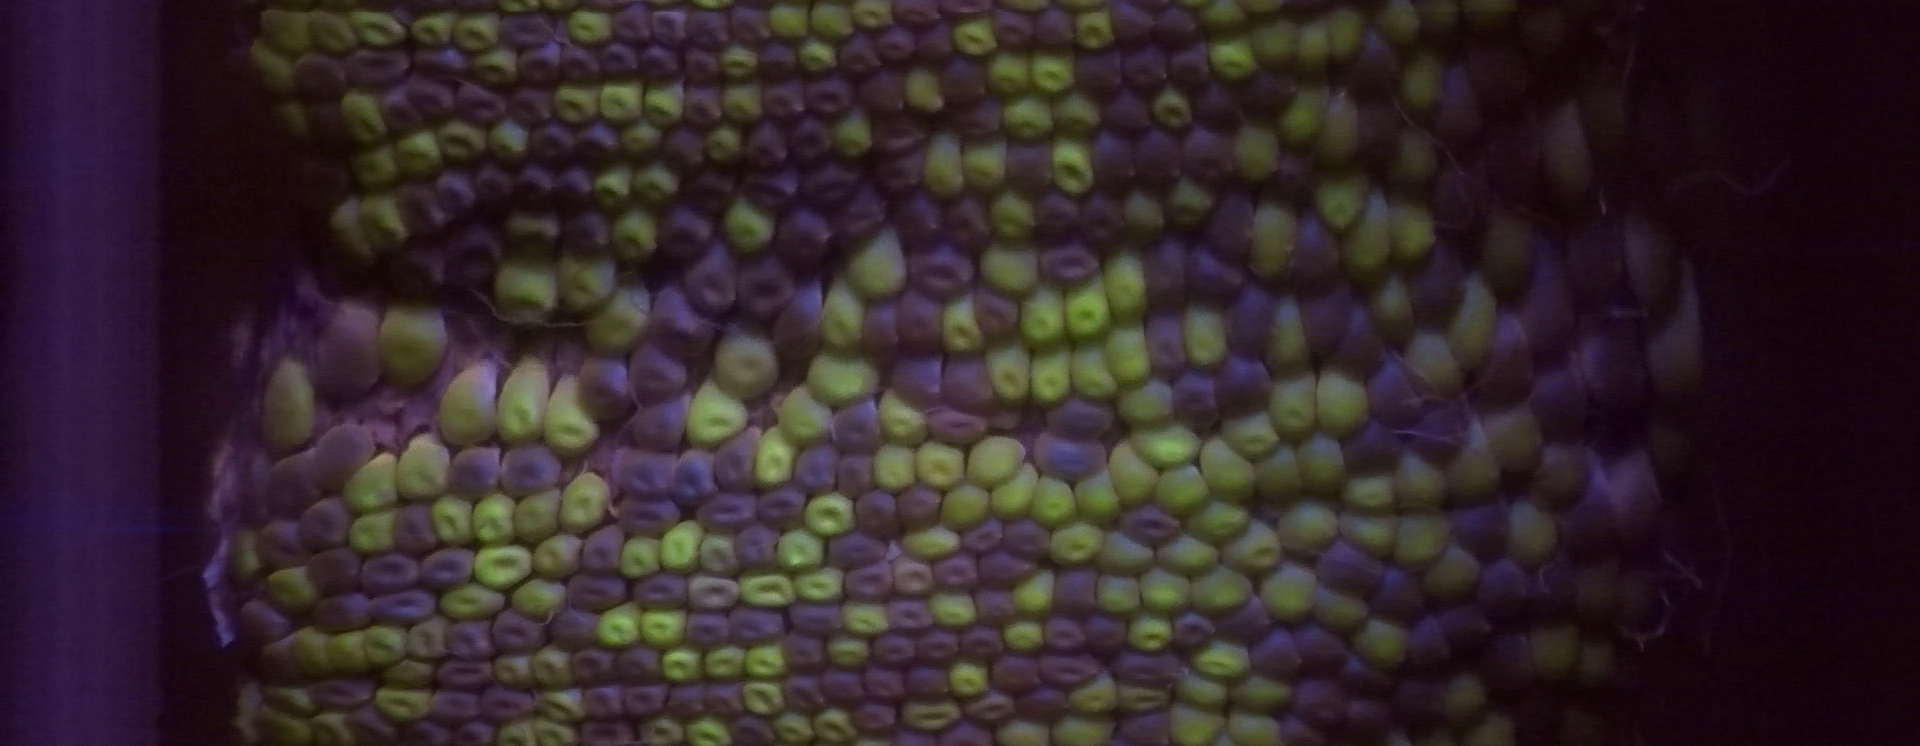fluorescent: (1648, 279, 1713, 401), (380, 303, 440, 379), (585, 283, 651, 350), (845, 224, 905, 296), (443, 367, 498, 446), (262, 367, 313, 450), (1446, 287, 1498, 369), (1485, 208, 1531, 295), (1615, 565, 1671, 635), (1573, 554, 1627, 626), (497, 364, 542, 448), (549, 369, 591, 457), (493, 255, 552, 318), (1536, 448, 1592, 514), (823, 277, 869, 356), (684, 382, 742, 446), (1487, 405, 1540, 472), (1102, 247, 1147, 326), (808, 352, 878, 402), (718, 330, 771, 393), (1545, 103, 1584, 186), (1201, 436, 1251, 501), (1346, 203, 1389, 279), (1569, 632, 1626, 688), (1387, 134, 1438, 196), (981, 243, 1044, 292), (343, 458, 400, 512), (1453, 426, 1496, 499), (1264, 565, 1316, 624), (980, 344, 1027, 408), (1397, 512, 1450, 570), (967, 436, 1027, 486), (1109, 443, 1155, 510), (778, 388, 829, 446), (1318, 369, 1365, 430), (1272, 380, 1320, 441), (556, 256, 610, 310), (1390, 202, 1436, 263), (400, 437, 446, 500), (327, 195, 369, 262), (1134, 423, 1199, 465), (1226, 518, 1277, 572), (560, 473, 610, 528), (991, 463, 1038, 521), (1269, 301, 1309, 369), (1413, 326, 1458, 386), (876, 394, 928, 446), (249, 40, 298, 96), (1251, 207, 1291, 276), (1067, 277, 1112, 336), (1429, 546, 1480, 598), (1156, 467, 1205, 521), (942, 295, 984, 356), (722, 195, 769, 251), (1280, 503, 1332, 552), (1299, 434, 1344, 490), (1100, 530, 1156, 576), (1318, 96, 1357, 160), (1340, 510, 1397, 554), (1071, 345, 1114, 404), (1196, 570, 1249, 617), (1284, 87, 1330, 142), (1318, 579, 1368, 628), (1120, 377, 1172, 425), (924, 134, 964, 196), (1255, 447, 1300, 501), (1048, 519, 1102, 563), (1513, 499, 1551, 561), (473, 545, 529, 587), (1188, 500, 1245, 540), (1379, 281, 1422, 334), (256, 10, 311, 51), (365, 194, 407, 249), (1396, 452, 1438, 507), (1187, 314, 1234, 361), (1022, 295, 1070, 343), (1011, 568, 1057, 619), (347, 91, 388, 145), (1074, 470, 1116, 524), (509, 579, 564, 620), (1315, 179, 1367, 222), (1052, 137, 1091, 192), (1027, 350, 1067, 405), (1356, 620, 1404, 664), (1223, 416, 1280, 454), (1000, 99, 1053, 140), (1063, 670, 1116, 710), (1234, 125, 1273, 179), (1446, 674, 1490, 722), (804, 497, 856, 538), (662, 517, 697, 577), (595, 604, 642, 648), (1145, 566, 1187, 615), (1048, 710, 1112, 742), (1527, 625, 1572, 669), (756, 432, 793, 484), (989, 194, 1033, 238), (1106, 339, 1150, 383), (778, 529, 822, 573), (1161, 537, 1220, 570), (1164, 706, 1223, 739), (904, 66, 947, 111), (869, 450, 915, 492), (620, 534, 660, 582), (736, 684, 790, 719), (438, 587, 503, 616), (397, 127, 435, 178), (476, 491, 511, 546), (229, 526, 260, 587), (348, 516, 396, 555), (1346, 474, 1393, 513), (365, 620, 404, 668), (1207, 40, 1256, 78), (617, 212, 658, 257), (253, 635, 299, 675), (264, 570, 313, 606), (961, 145, 1003, 187), (1406, 62, 1439, 116), (945, 490, 989, 530), (535, 535, 579, 576), (1174, 178, 1212, 224), (433, 499, 471, 545), (351, 10, 403, 44), (1123, 189, 1160, 236), (326, 630, 362, 677), (920, 443, 959, 488), (1032, 478, 1071, 522), (741, 575, 792, 608), (309, 15, 356, 50), (411, 10, 453, 50), (842, 601, 887, 639), (926, 592, 973, 626), (442, 121, 482, 162), (569, 9, 612, 47), (1060, 91, 1098, 134), (1153, 85, 1191, 127), (502, 209, 560, 238), (296, 621, 324, 679), (1254, 16, 1287, 65), (1324, 13, 1357, 62), (906, 526, 959, 556), (516, 497, 556, 537), (1097, 575, 1138, 614), (553, 82, 595, 120), (647, 82, 684, 124), (1128, 617, 1176, 650), (1229, 708, 1277, 741), (1123, 684, 1171, 717), (1071, 11, 1116, 47), (798, 568, 842, 604), (1176, 671, 1224, 703), (1375, 2, 1414, 42), (795, 38, 838, 73), (601, 83, 644, 119), (497, 649, 534, 690), (951, 20, 996, 53), (640, 612, 684, 646), (945, 661, 989, 695), (906, 698, 958, 726), (356, 151, 396, 187), (536, 642, 567, 688), (376, 688, 426, 717), (490, 121, 527, 159), (262, 682, 313, 709), (1199, 646, 1248, 674), (452, 15, 493, 48), (1299, 22, 1329, 69), (767, 5, 809, 37), (988, 58, 1026, 93), (662, 647, 698, 685), (622, 121, 656, 160), (1033, 56, 1074, 89), (994, 720, 1051, 744), (416, 621, 449, 660), (634, 717, 684, 742), (1236, 677, 1286, 703), (594, 170, 629, 206), (1469, 710, 1505, 746), (258, 715, 307, 741), (718, 40, 756, 73), (830, 636, 869, 668), (727, 82, 758, 122), (839, 114, 868, 156), (639, 167, 672, 203), (814, 5, 852, 37), (816, 707, 853, 739), (747, 646, 782, 679), (707, 648, 741, 681), (704, 127, 740, 159), (1000, 620, 1038, 649), (851, 1, 891, 28), (500, 717, 539, 744), (473, 55, 518, 78), (1199, 2, 1243, 23), (316, 713, 351, 739), (692, 720, 731, 744), (545, 692, 578, 717), (776, 717, 808, 741), (539, 723, 574, 742)
nonfluorescent: (1580, 309, 1649, 428), (315, 300, 384, 402), (1611, 450, 1664, 573), (1468, 317, 1532, 416), (1520, 235, 1564, 365), (1476, 621, 1539, 710), (647, 287, 718, 363), (1438, 154, 1494, 246), (1566, 205, 1613, 311), (1483, 108, 1537, 198), (1562, 465, 1611, 563), (1529, 366, 1589, 443), (1414, 247, 1468, 332), (1340, 292, 1389, 383), (1451, 499, 1520, 563), (1319, 538, 1389, 601), (1469, 40, 1527, 113), (448, 222, 509, 289), (1292, 213, 1344, 290), (1435, 65, 1479, 154), (1224, 284, 1278, 356), (609, 445, 676, 502), (779, 285, 828, 363), (1356, 96, 1406, 170), (1353, 29, 1406, 100), (716, 423, 765, 499), (1188, 239, 1243, 306), (686, 247, 740, 316), (1367, 360, 1417, 432), (1526, 559, 1578, 627), (1218, 354, 1275, 418), (741, 255, 793, 322), (1212, 189, 1261, 261), (909, 249, 981, 298), (940, 356, 999, 416), (1184, 125, 1240, 187), (1485, 559, 1540, 622), (1439, 601, 1491, 668), (1373, 570, 1431, 628), (629, 345, 688, 404), (1033, 432, 1112, 477), (936, 194, 993, 254), (315, 423, 372, 483), (387, 240, 448, 296), (1149, 235, 1195, 309), (1043, 398, 1118, 443), (632, 398, 692, 454), (578, 358, 633, 419), (1142, 314, 1193, 379), (497, 443, 562, 494), (1293, 676, 1351, 733), (898, 295, 948, 359), (1029, 195, 1085, 251), (1342, 425, 1401, 479), (260, 516, 313, 575), (267, 451, 320, 511), (1216, 595, 1276, 648), (1307, 287, 1349, 360), (778, 209, 828, 272), (724, 600, 791, 647), (291, 51, 349, 105), (656, 209, 714, 263), (1193, 82, 1253, 134), (1009, 138, 1060, 198), (1392, 673, 1442, 734), (1138, 130, 1188, 191), (360, 549, 422, 598), (1411, 408, 1466, 463), (893, 353, 945, 410), (828, 399, 887, 451), (564, 570, 631, 615), (231, 597, 294, 644), (833, 194, 888, 247), (1254, 627, 1307, 684), (800, 165, 860, 214), (298, 499, 358, 548), (349, 43, 411, 89), (898, 191, 944, 254), (1296, 622, 1348, 677), (448, 443, 501, 499), (367, 588, 438, 628), (1179, 369, 1223, 434), (298, 157, 353, 208), (793, 441, 842, 499), (863, 300, 907, 364), (1033, 244, 1101, 285), (1118, 503, 1183, 546), (618, 496, 680, 541), (340, 703, 407, 745), (681, 609, 741, 654), (389, 503, 442, 555), (309, 593, 373, 635), (1116, 650, 1187, 688), (1344, 692, 1393, 746), (1269, 149, 1316, 205), (1338, 654, 1393, 702), (868, 118, 929, 160), (699, 491, 760, 534), (631, 570, 692, 612), (1243, 72, 1299, 119), (1171, 40, 1217, 97), (306, 549, 362, 595), (1098, 130, 1138, 196), (660, 124, 708, 178), (1078, 194, 1124, 249), (490, 608, 545, 654), (922, 407, 989, 445), (309, 100, 353, 158), (549, 604, 602, 650), (683, 169, 738, 214), (973, 287, 1019, 342), (257, 631, 302, 686), (1041, 652, 1104, 691), (1513, 690, 1558, 746), (673, 447, 718, 503), (802, 73, 853, 121), (741, 122, 789, 174), (562, 211, 613, 258), (436, 658, 502, 695), (977, 552, 1041, 590), (398, 183, 441, 239), (835, 447, 878, 503), (860, 70, 909, 119), (940, 56, 991, 104), (528, 120, 578, 168), (1054, 563, 1102, 614), (1078, 49, 1124, 100), (1411, 616, 1450, 676), (582, 518, 623, 575), (993, 650, 1043, 697), (827, 532, 888, 570), (1109, 2, 1156, 51), (950, 99, 1007, 140), (446, 617, 496, 663), (911, 24, 962, 69), (578, 118, 622, 169), (748, 165, 800, 209), (1003, 521, 1056, 563), (551, 167, 598, 214), (896, 483, 943, 530), (838, 33, 887, 78), (1123, 50, 1172, 96), (458, 83, 508, 127), (1084, 612, 1134, 657), (422, 548, 475, 589), (913, 626, 966, 668), (789, 594, 842, 635), (621, 679, 675, 719), (306, 673, 377, 703), (514, 165, 558, 214), (779, 671, 828, 715), (433, 167, 474, 219), (1101, 92, 1153, 132), (411, 49, 469, 86), (1018, 687, 1075, 724), (874, 156, 928, 195), (845, 562, 899, 601), (735, 526, 782, 570), (502, 13, 557, 51), (411, 77, 457, 122), (933, 549, 980, 593), (972, 584, 1019, 628), (684, 9, 732, 51), (1041, 612, 1091, 653), (879, 27, 922, 73), (380, 89, 426, 132), (426, 688, 489, 720), (758, 486, 807, 527), (958, 624, 1009, 661), (478, 688, 536, 722), (557, 47, 604, 88), (1033, 7, 1075, 54), (470, 160, 511, 208), (684, 85, 729, 127), (514, 44, 560, 86), (756, 40, 797, 86), (508, 87, 553, 129), (872, 631, 917, 673), (987, 12, 1033, 53), (618, 644, 665, 685), (664, 682, 711, 722), (1114, 713, 1171, 746), (860, 664, 909, 702), (902, 668, 953, 704), (729, 2, 773, 44), (1152, 6, 1196, 48), (763, 80, 804, 124), (858, 489, 899, 534), (573, 648, 620, 687), (787, 120, 828, 164), (573, 688, 627, 722), (653, 2, 689, 50), (580, 719, 645, 746), (591, 39, 636, 78), (966, 521, 1011, 559), (683, 47, 725, 87), (613, 2, 653, 45), (782, 637, 827, 675), (888, 597, 933, 633), (1171, 615, 1218, 649), (823, 669, 866, 707), (636, 47, 680, 83), (849, 703, 899, 735), (725, 712, 771, 746), (939, 719, 996, 746), (1283, 717, 1333, 746), (893, 1, 940, 32), (405, 714, 448, 746), (708, 679, 743, 717), (451, 717, 492, 746), (939, 1, 991, 24), (888, 724, 931, 746)
